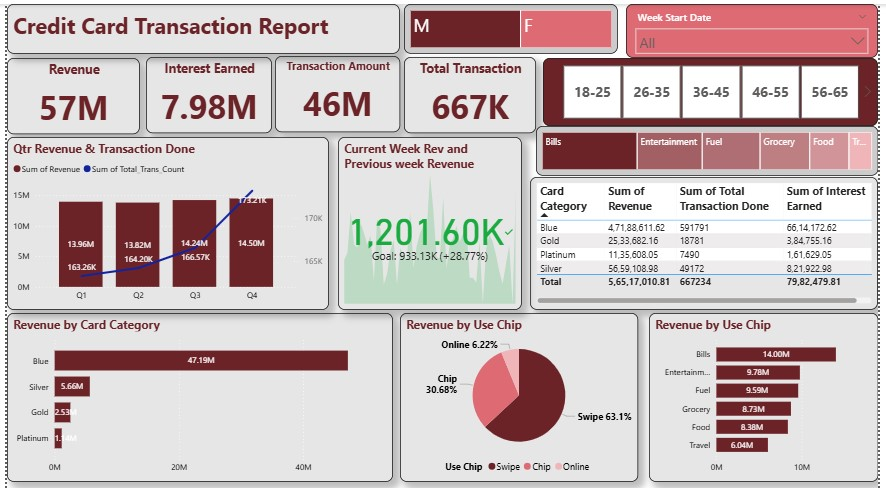

The dashboard page shown, as its layout file describes it:
{"tool":"powerbi","page":{"name":"Tranaction Report","canvas":[1280,720],"ordinal":1},"visuals":[{"type":"group","id":"g1","title":"Score Card","box":[0,76.4,777.3,114.6],"z":0},{"type":"card","title":"Revenue","fields":{"Values":["Sum(CreditCard.Revenue)"]},"box":[0,79.4,195.4,111.7],"z":0,"group":"g1"},{"type":"card","title":"Interest Earned","fields":{"Values":["Sum(CreditCard.Interest_Earned)"]},"box":[204.2,77.3,185.1,111.7],"z":1000,"group":"g1"},{"type":"slicer","fields":{"Values":["customer.Age_Group"]},"box":[787.6,79.3,492.2,99.9],"z":1000},{"type":"textbox","box":[0,0,577.5,73.5],"z":2000},{"type":"card","title":"Transaction Amount","fields":{"Values":["Sum(CreditCard.Total_Trans_Amt)"]},"box":[393.8,76.4,183.7,111.7],"z":2000,"group":"g1"},{"type":"card","title":"Total Transaction","fields":{"Values":["Sum(CreditCard.Total_Trans_Vol)"]},"box":[583.3,78,194,111.7],"z":3000,"group":"g1"},{"type":"tableEx","fields":{"Values":["CreditCard.Card_Category","Sum(CreditCard.Revenue)","Sum(CreditCard.Total_Trans_Vol)","Sum(CreditCard.Interest_Earned)"]},"box":[768.5,254.2,511.3,195.4],"z":3000},{"type":"barChart","title":"Revenue by Card Category","fields":{"Category":["CreditCard.Card_Category"],"Y":["Sum(CreditCard.Revenue)"]},"box":[0,454,567.2,248.3],"z":4000},{"type":"lineStackedColumnComboChart","title":"Qtr Revenue & Transaction Done","fields":{"Y":["Sum(CreditCard.Revenue)"],"Category":["CreditCard.Qtr"],"Y2":["Sum(CreditCard.Total_Trans_Vol)"]},"box":[0,195.4,473.1,254.2],"z":5000},{"type":"pieChart","title":"Revenue by Use Chip","fields":{"Category":["CreditCard.Use Chip"],"Y":["Sum(CreditCard.Revenue)"]},"box":[577.5,454,349.7,248.3],"z":6000},{"type":"barChart","title":"Revenue by Use Chip","fields":{"Category":["CreditCard.Exp Type"],"Y":["Sum(CreditCard.Revenue)"]},"box":[943.3,454,336.7,248.3],"z":7000},{"type":"kpi","title":"Current Week Rev and Previous week Revenue","fields":{"Indicator":["Measure Table.Current_Week_Rev"],"TrendLine":["CreditCard.Week_Start_Date"],"Goal":["Measure Table.Previous_week_Revenue"]},"box":[486.4,195.4,270.4,254.2],"z":8000},{"type":"treemap","title":"Revenue by Gender","fields":{"Group":["customer.Gender"],"Values":["Sum(CreditCard.Revenue)"]},"box":[583.3,0,314.4,73.5],"z":9000},{"type":"treemap","fields":{"Group":["CreditCard.Exp Type"],"Values":["Sum(CreditCard.Annual_Fees)"]},"box":[777.3,179.3,502.5,73.5],"z":10000},{"type":"slicer","fields":{"Values":["CreditCard.Week_Start_Date"]},"box":[909.6,0,370.3,79.3],"z":11000}]}

Visuals, with their boxes in screenshot pixels (x1, y1, x2, y2), scaled from the page's 1280x720 canvas onto the 886x488 screenshot:
"Score Card" group: left=0, top=52, right=538, bottom=129
"Revenue" card: left=0, top=54, right=135, bottom=130
"Interest Earned" card: left=141, top=52, right=269, bottom=128
slicer - customer.Age_Group: left=545, top=54, right=885, bottom=121
textbox: left=0, top=0, right=400, bottom=50
"Transaction Amount" card: left=273, top=52, right=400, bottom=127
"Total Transaction" card: left=404, top=53, right=538, bottom=129
tableEx - CreditCard.Card_Category x Sum(CreditCard.Revenue): left=532, top=172, right=885, bottom=305
"Revenue by Card Category" barChart: left=0, top=308, right=393, bottom=476
"Qtr Revenue & Transaction Done" lineStackedColumnComboChart: left=0, top=132, right=327, bottom=305
"Revenue by Use Chip" pieChart: left=400, top=308, right=642, bottom=476
"Revenue by Use Chip" barChart: left=653, top=308, right=885, bottom=476
"Current Week Rev and Previous week Revenue" kpi: left=337, top=132, right=524, bottom=305
"Revenue by Gender" treemap: left=404, top=0, right=621, bottom=50
treemap - CreditCard.Exp Type x Sum(CreditCard.Annual_Fees): left=538, top=122, right=885, bottom=171
slicer - CreditCard.Week_Start_Date: left=630, top=0, right=885, bottom=54
